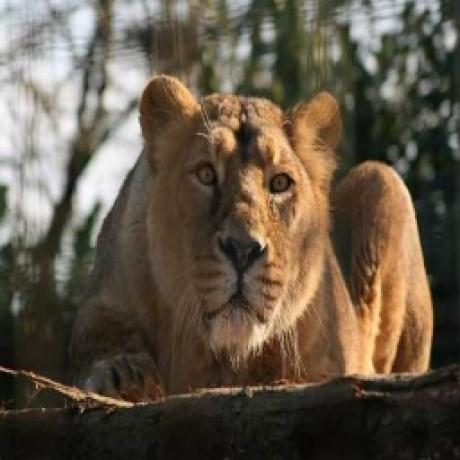Lion: (67, 73, 435, 410)
